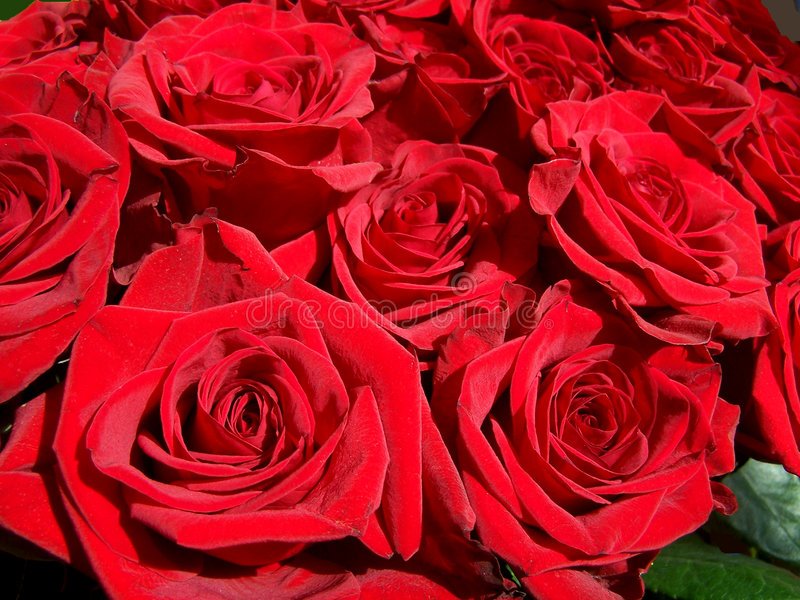RedRose: (46, 233, 444, 600), (401, 276, 740, 600), (527, 88, 788, 374), (107, 7, 389, 239), (336, 122, 560, 378)
